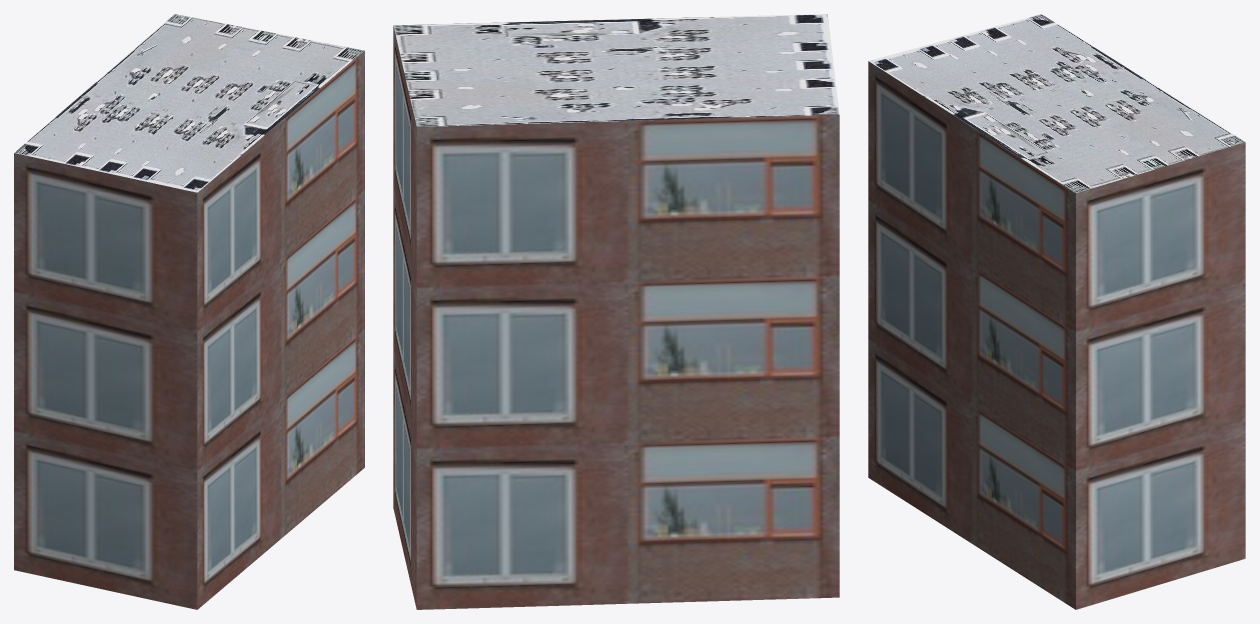
File: ResTex__1479.fbx
3 views of the same model, side by side, from view 1: azimuth 30°, elevation 25°; view 2: azimuth 150°, elevation 25°; view 3: azimuth 270°, elevation 25° (orthographic). The views are drawn at different scales.
Visible parts, largest first — view 1: CityEngineMaterial_19_m, CityEngineMaterial_15_m; view 2: CityEngineMaterial_19_m, CityEngineMaterial_15_m; view 3: CityEngineMaterial_19_m, CityEngineMaterial_15_m.
Boxes of the visible parts, bbox=[...] form: CityEngineMaterial_19_m: bbox=[14, 51, 364, 609]; CityEngineMaterial_15_m: bbox=[14, 14, 364, 192]; CityEngineMaterial_19_m: bbox=[393, 26, 839, 609]; CityEngineMaterial_15_m: bbox=[393, 14, 839, 126]; CityEngineMaterial_19_m: bbox=[868, 61, 1245, 609]; CityEngineMaterial_15_m: bbox=[868, 14, 1245, 193].
Bounding box in the file's own units: 8.31 × 9 × 7.39.
Materials: 2 (2 with a texture image).
